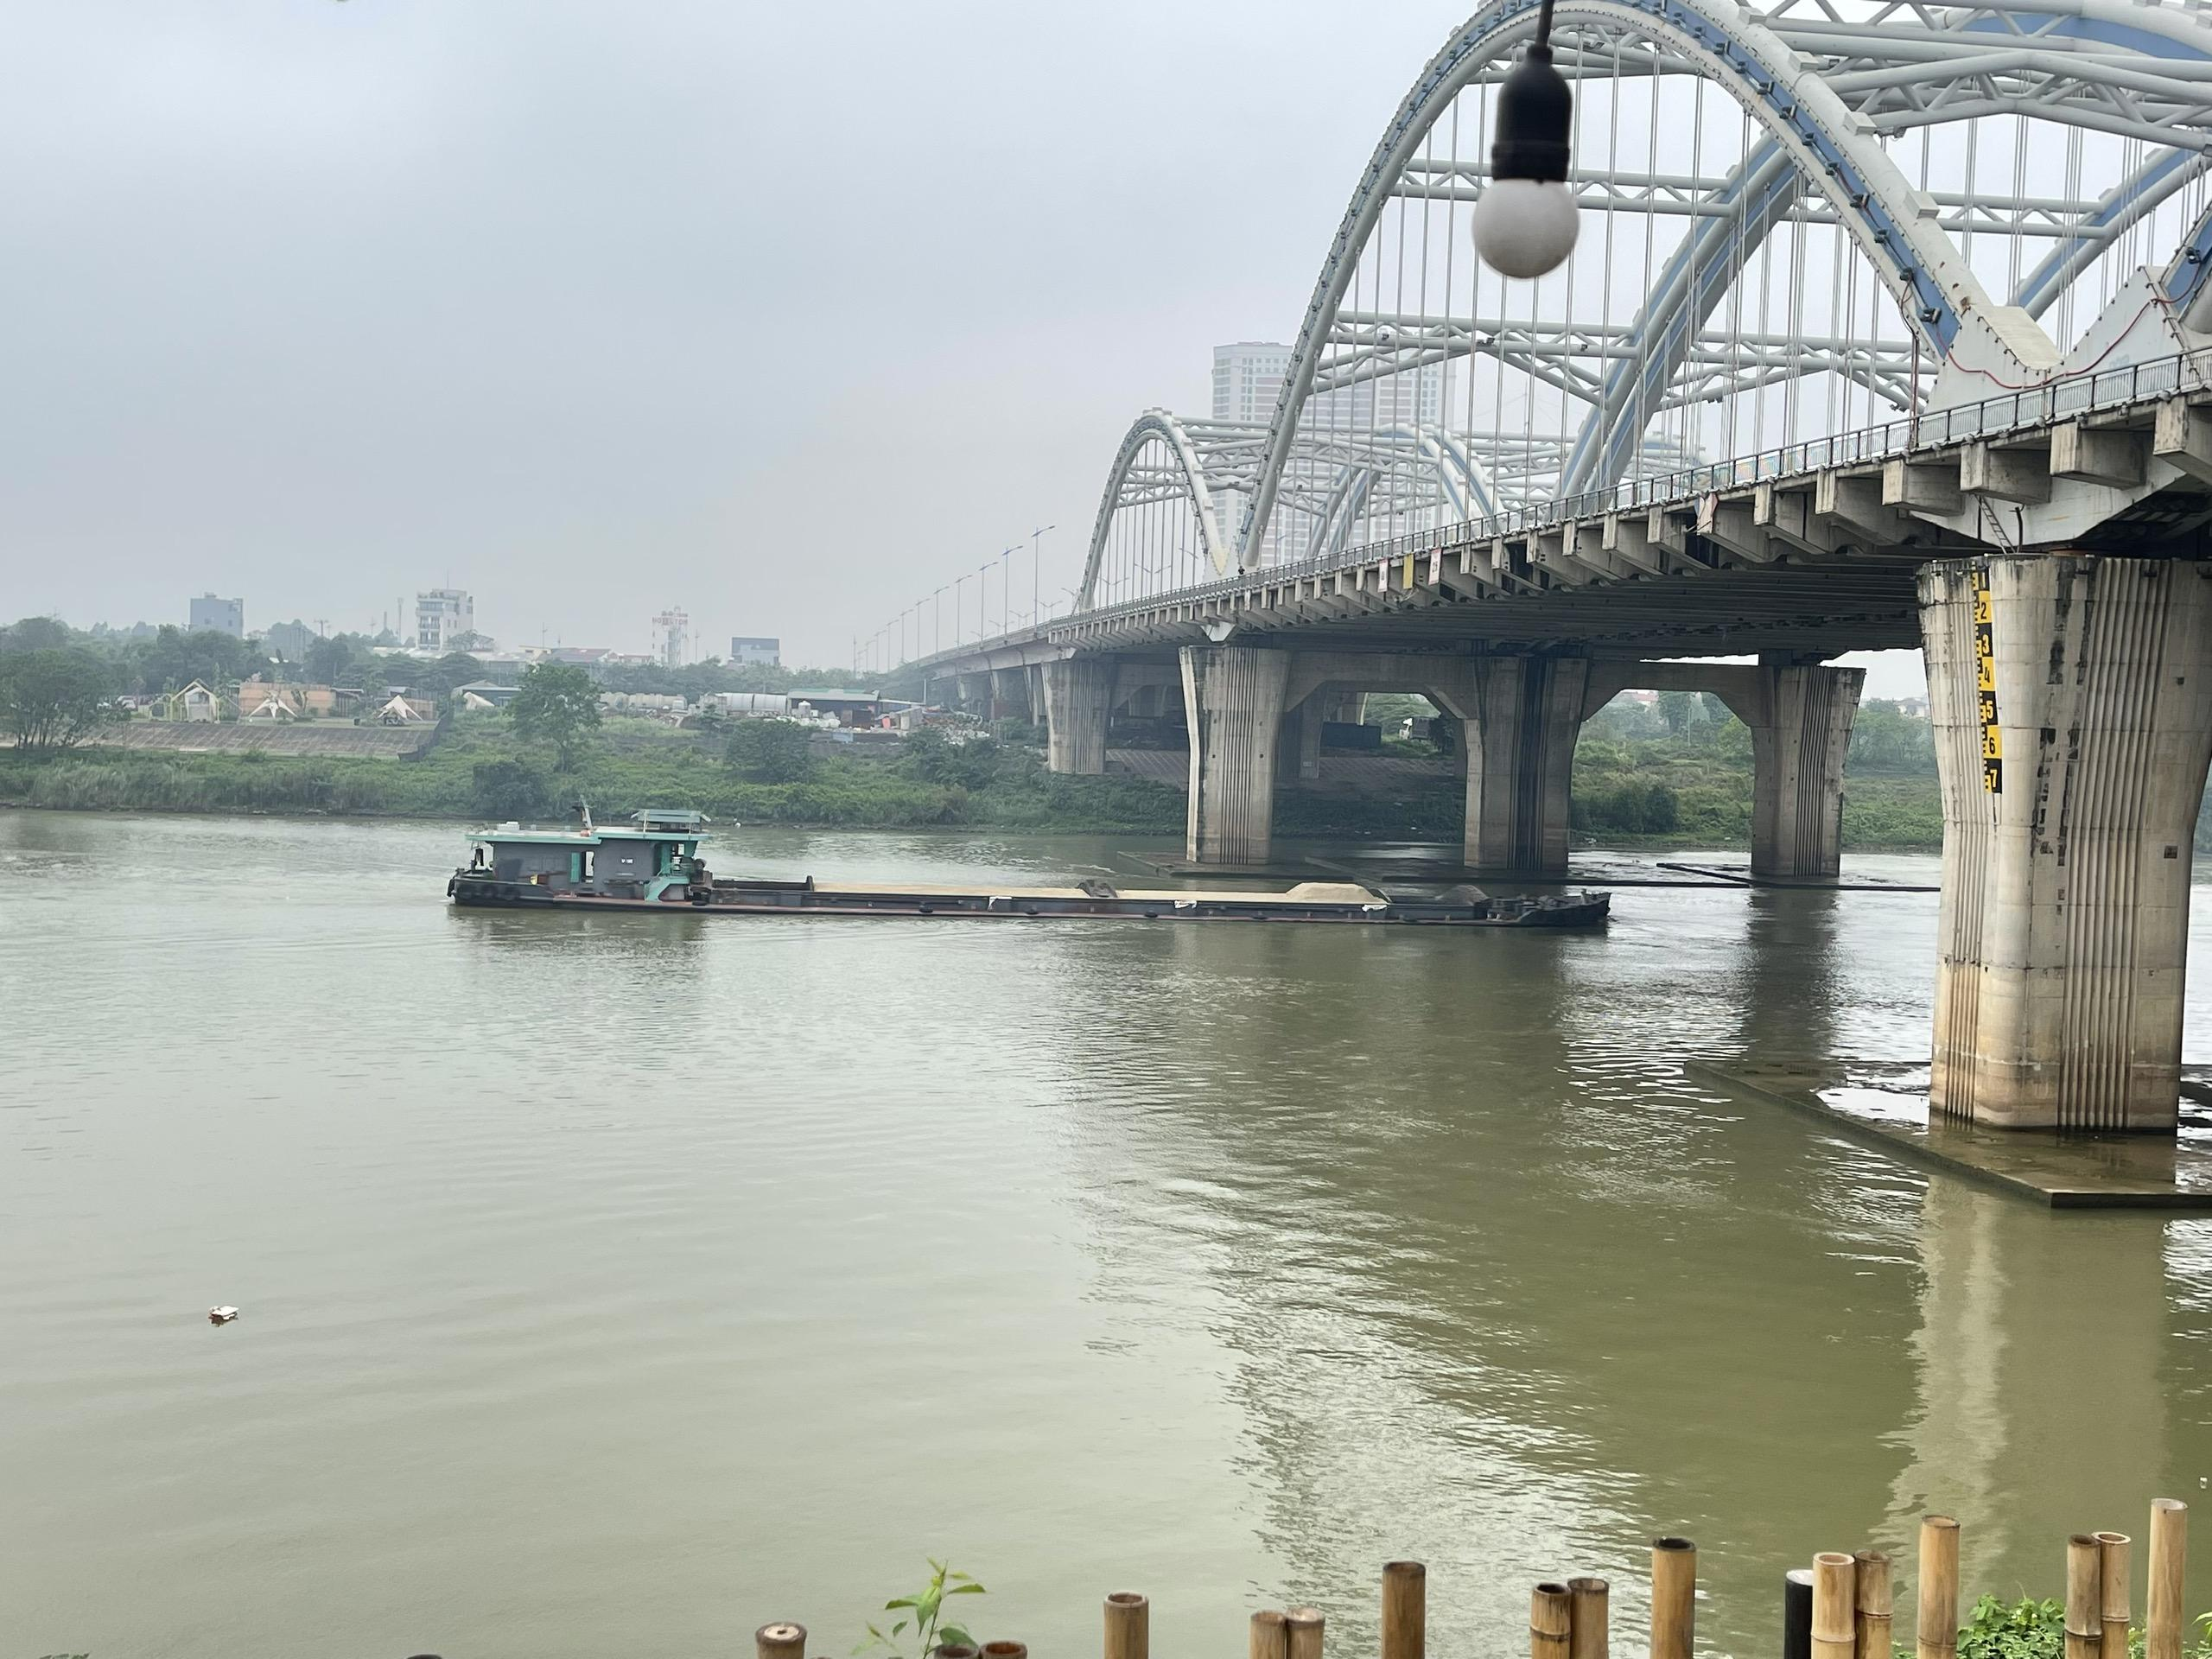Ship: (441, 796, 1615, 941)
